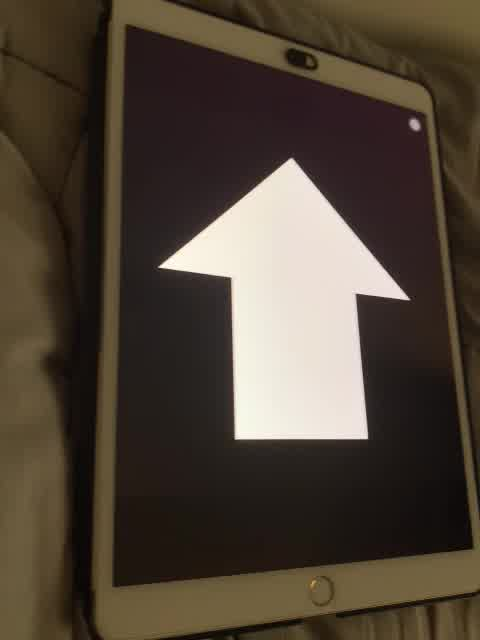up: (158, 147, 415, 449)
